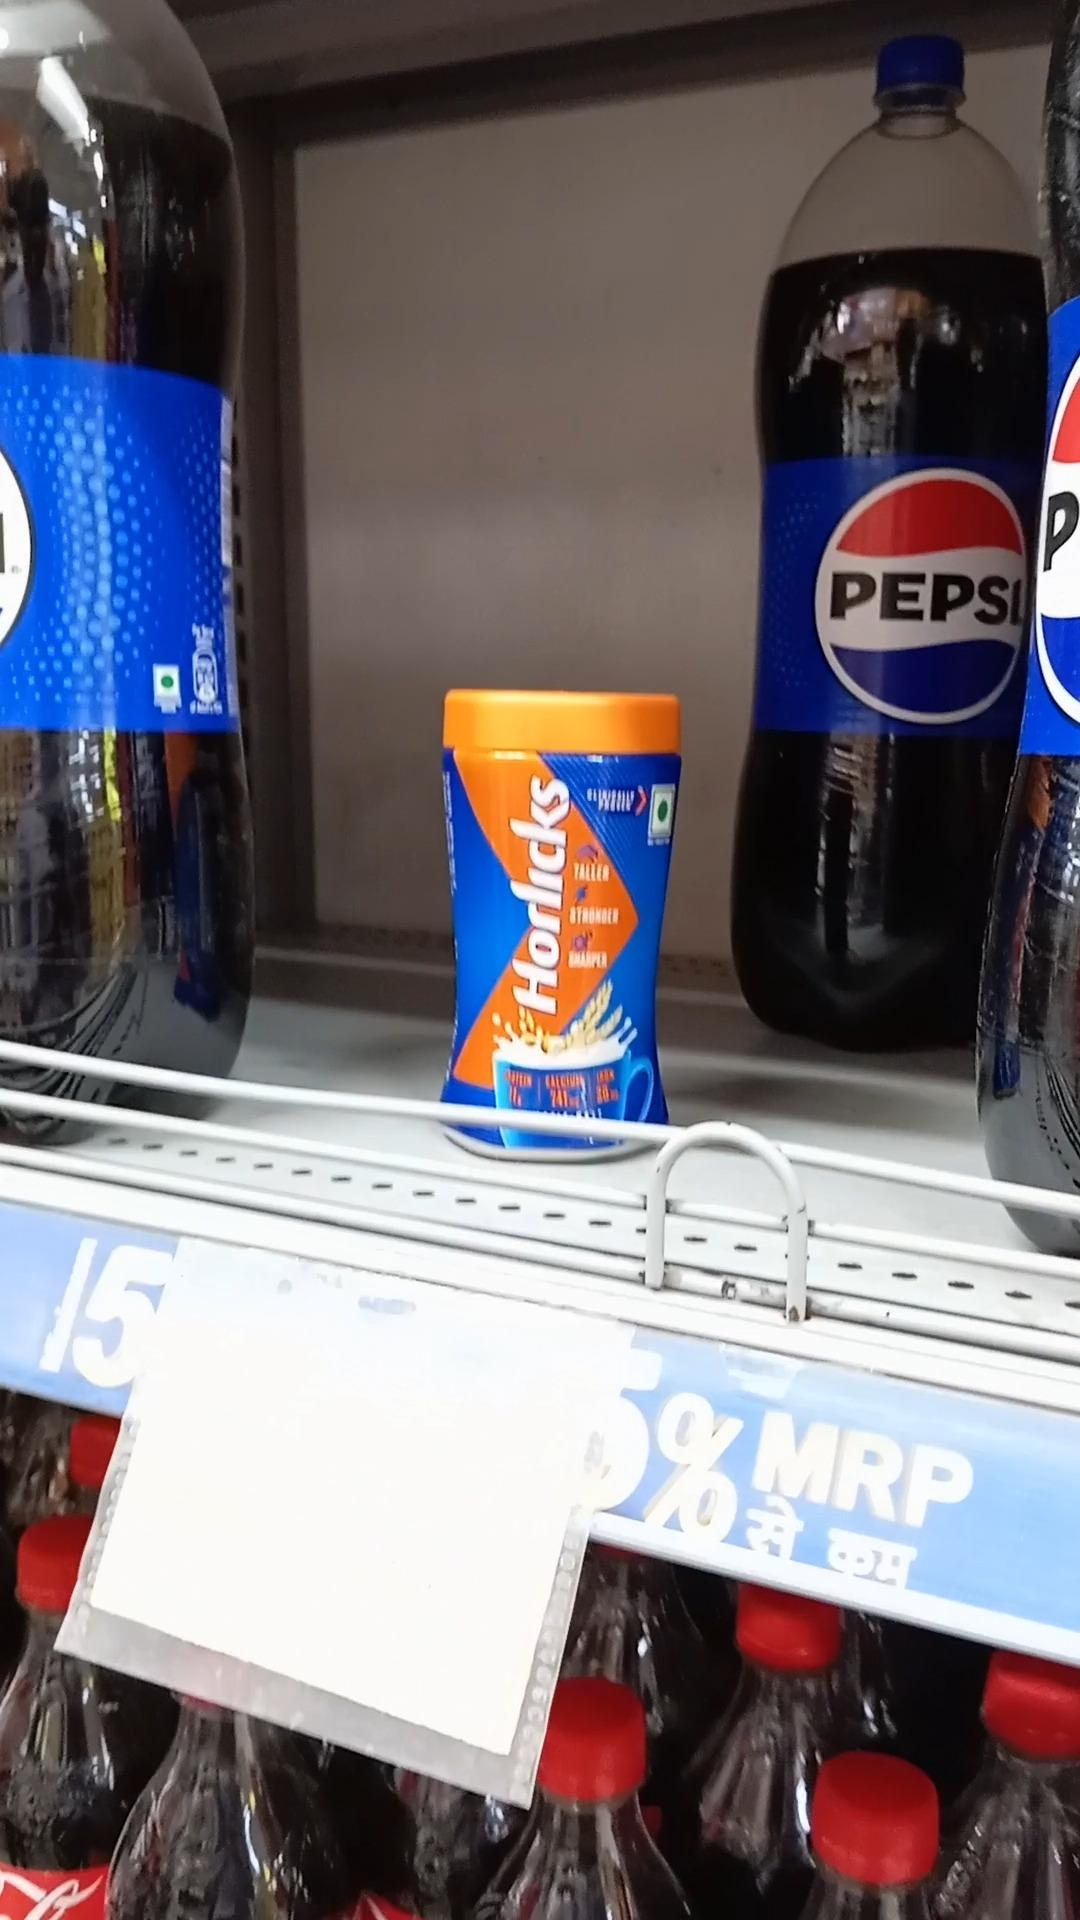HORLICK_CLASSIC_MALT_200_G_JAR: (439, 682, 676, 1153)
